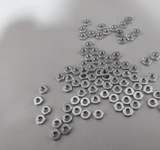nut: (114, 102, 125, 113), (61, 124, 71, 136), (51, 130, 61, 142), (148, 99, 159, 109), (143, 85, 154, 95), (132, 82, 143, 92), (109, 94, 120, 104), (133, 92, 145, 101), (124, 107, 134, 117), (113, 85, 123, 95), (94, 110, 104, 120), (81, 110, 91, 120), (63, 114, 73, 124), (53, 119, 63, 129), (36, 115, 46, 125), (71, 78, 81, 88), (56, 73, 66, 83), (119, 79, 130, 88), (148, 73, 157, 83), (143, 57, 153, 66), (131, 101, 141, 110), (122, 96, 132, 105), (130, 65, 140, 74), (103, 81, 113, 90), (95, 78, 104, 88), (81, 80, 91, 89), (92, 95, 101, 105), (81, 98, 90, 108), (73, 106, 82, 116), (71, 96, 80, 106), (64, 104, 73, 114), (39, 85, 48, 95), (34, 97, 43, 107), (81, 79, 90, 89), (64, 65, 74, 74), (63, 84, 73, 93), (151, 52, 160, 61), (113, 60, 122, 69), (111, 76, 120, 85), (105, 55, 114, 64), (80, 47, 89, 56), (42, 106, 51, 115), (78, 89, 87, 98), (88, 73, 97, 82), (72, 67, 81, 76), (65, 74, 74, 83), (125, 88, 135, 96), (130, 74, 140, 82), (100, 91, 110, 99), (79, 72, 89, 80), (139, 77, 148, 85), (113, 52, 122, 60), (93, 56, 101, 65), (85, 54, 94, 62), (88, 64, 97, 72), (133, 29, 142, 37), (119, 36, 127, 45), (103, 28, 112, 36), (88, 30, 96, 39), (83, 19, 92, 27), (79, 33, 88, 41), (89, 86, 98, 94), (80, 67, 89, 75), (122, 71, 132, 78), (114, 69, 122, 77), (122, 62, 130, 70), (106, 65, 114, 73), (127, 34, 135, 42), (98, 23, 106, 31), (79, 25, 87, 33), (100, 69, 109, 76), (103, 74, 112, 81), (98, 62, 107, 69), (91, 48, 100, 55), (86, 42, 95, 49), (80, 61, 89, 68), (99, 51, 106, 59), (96, 69, 103, 77), (125, 17, 133, 24), (119, 22, 127, 29), (154, 91, 160, 100), (111, 25, 118, 32), (97, 32, 103, 40)
